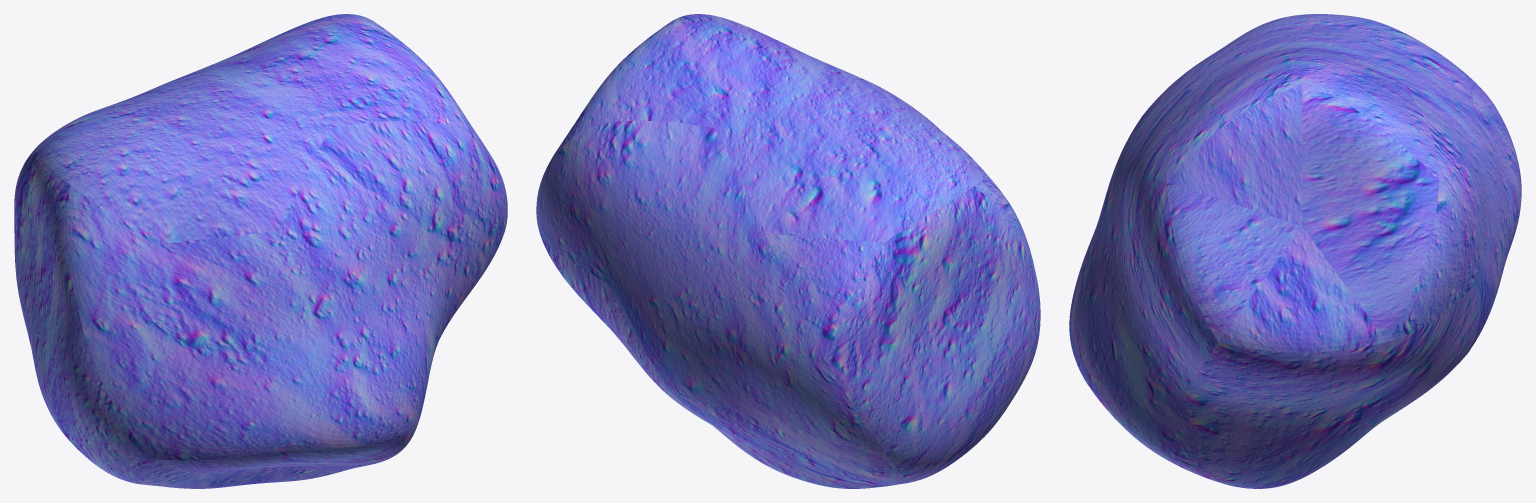
The model's file is mediumasteroid15_LOD0.fbx.
3 renders of one model, left to right at view 1: azimuth 30°, elevation 25°; view 2: azimuth 150°, elevation 25°; view 3: azimuth 270°, elevation 25°, orthographic. The views are drawn at different scales.
Visible parts, largest first — view 1: Icosphere; view 2: Icosphere; view 3: Icosphere.
Boxes of the visible parts, box(x1,y1,x2,y2) form: Icosphere: box(14, 14, 507, 488); Icosphere: box(536, 14, 1040, 488); Icosphere: box(1069, 14, 1521, 488).
Size of the model in its own units: 250 by 232 by 211.
